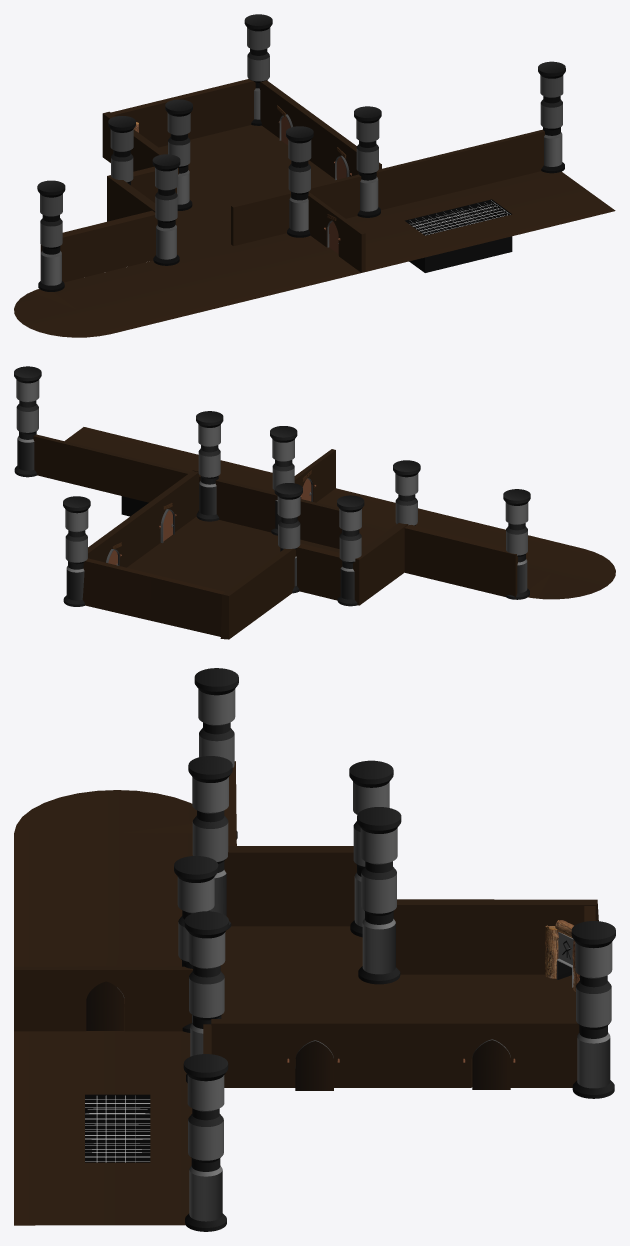
Rendered from reworkRoom.fbx.
3 renders of one model, top to bottom at view 1: azimuth 30°, elevation 25°; view 2: azimuth 150°, elevation 25°; view 3: azimuth 270°, elevation 25°, orthographic. The views are drawn at different scales.
Parts seen in each view (by area): view 1: Habitacion, Column.001, Column.005, Column, Column.008, Column.007, Column.003, Column.006, Column.002, rejas; view 2: Habitacion, Column.008, Column.006, Column.007, Column.002, Column.005, Column.003, Column, Column.001, Puerta; view 3: Habitacion, Column.008, Column.006, Column.003, Column.007, Column.001, Column.005, Column.002, Column, rejas, Puerta, Puerta.002 (+1 smaller).
Boxes of the visible parts, left/top/right/bottom form: Habitacion: left=14, top=79, right=615, bottom=337; Column.001: left=152, top=154, right=180, bottom=265; Column.005: left=37, top=180, right=65, bottom=291; Column: left=286, top=126, right=313, bottom=237; Column.008: left=538, top=61, right=565, bottom=173; Column.007: left=354, top=106, right=381, bottom=217; Column.003: left=165, top=99, right=192, bottom=210; Column.006: left=244, top=14, right=272, bottom=125; Column.002: left=108, top=116, right=135, bottom=185; rejas: left=410, top=200, right=510, bottom=235; Habitacion: left=33, top=427, right=615, bottom=639; Column.008: left=14, top=366, right=41, bottom=477; Column.006: left=63, top=496, right=90, bottom=606; Column.007: left=196, top=411, right=223, bottom=521; Column.002: left=337, top=495, right=364, bottom=606; Column.005: left=503, top=489, right=530, bottom=599; Column.003: left=275, top=483, right=302, bottom=593; Column: left=270, top=426, right=297, bottom=535; Column.001: left=393, top=460, right=420, bottom=525; Puerta: left=160, top=509, right=174, bottom=543; Habitacion: left=14, top=761, right=598, bottom=1225; Column.008: left=183, top=1054, right=228, bottom=1231; Column.006: left=571, top=921, right=615, bottom=1098; Column.003: left=357, top=807, right=401, bottom=984; Column.007: left=184, top=911, right=228, bottom=1082; Column.001: left=188, top=756, right=232, bottom=929; Column.005: left=194, top=668, right=238, bottom=839; Column.002: left=349, top=760, right=393, bottom=937; Column: left=174, top=856, right=218, bottom=1032; rejas: left=85, top=1095, right=150, bottom=1162; Puerta: left=295, top=1040, right=333, bottom=1090; Puerta.002: left=472, top=1039, right=510, bottom=1089.
Size of the model in its own units: 7540 by 1740 by 4340.
